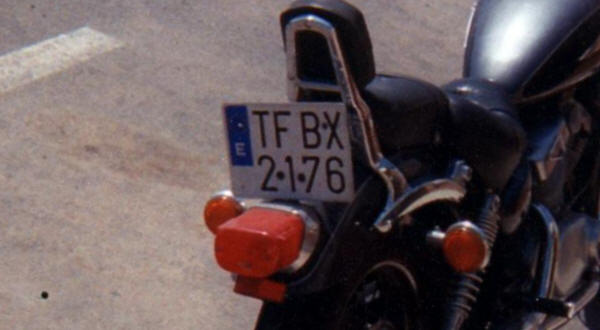license_plate: (222, 102, 357, 203)
